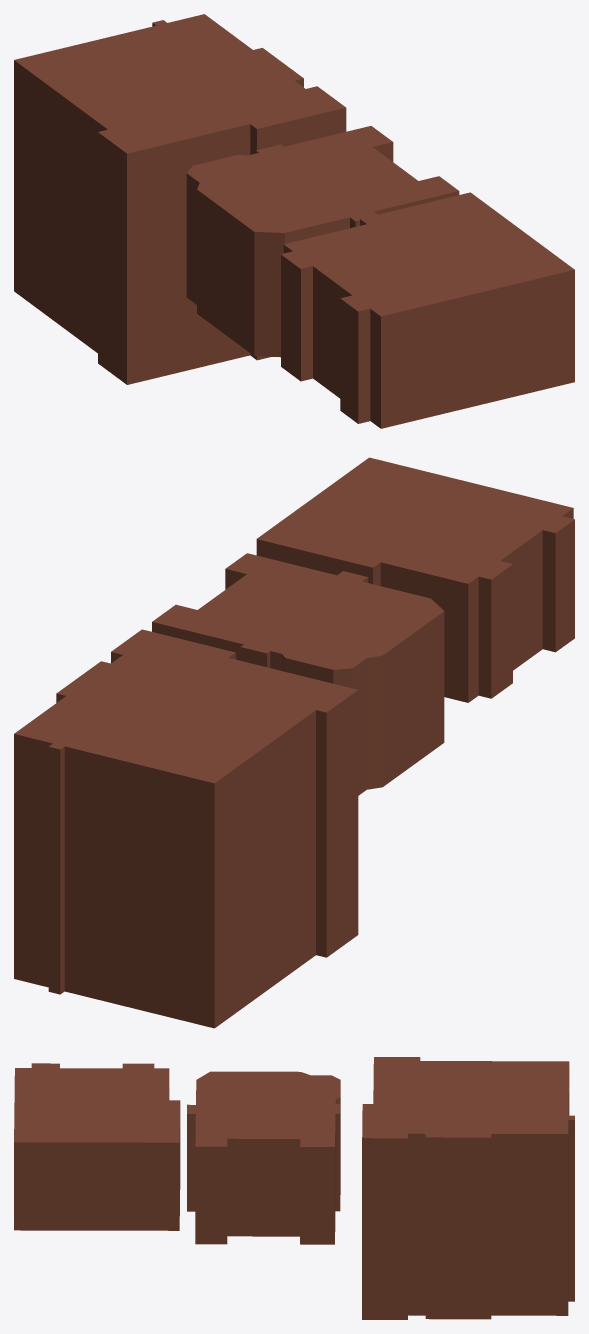
File: basic_buildings_633_4.fbx
The picture shows the model from 3 angles, top to bottom: view 1: azimuth 30°, elevation 25°; view 2: azimuth 150°, elevation 25°; view 3: azimuth 270°, elevation 25°; orthographic projection. The views are drawn at different scales.
Parts seen in each view (by area): view 1: Model; view 2: Model; view 3: Model.
Part boxes in pixels (<box>): Model: <box>14,14,574,428</box>; Model: <box>14,457,574,1028</box>; Model: <box>14,1057,574,1319</box>.
Bounding box in the file's own units: 823 × 828 × 2317.
